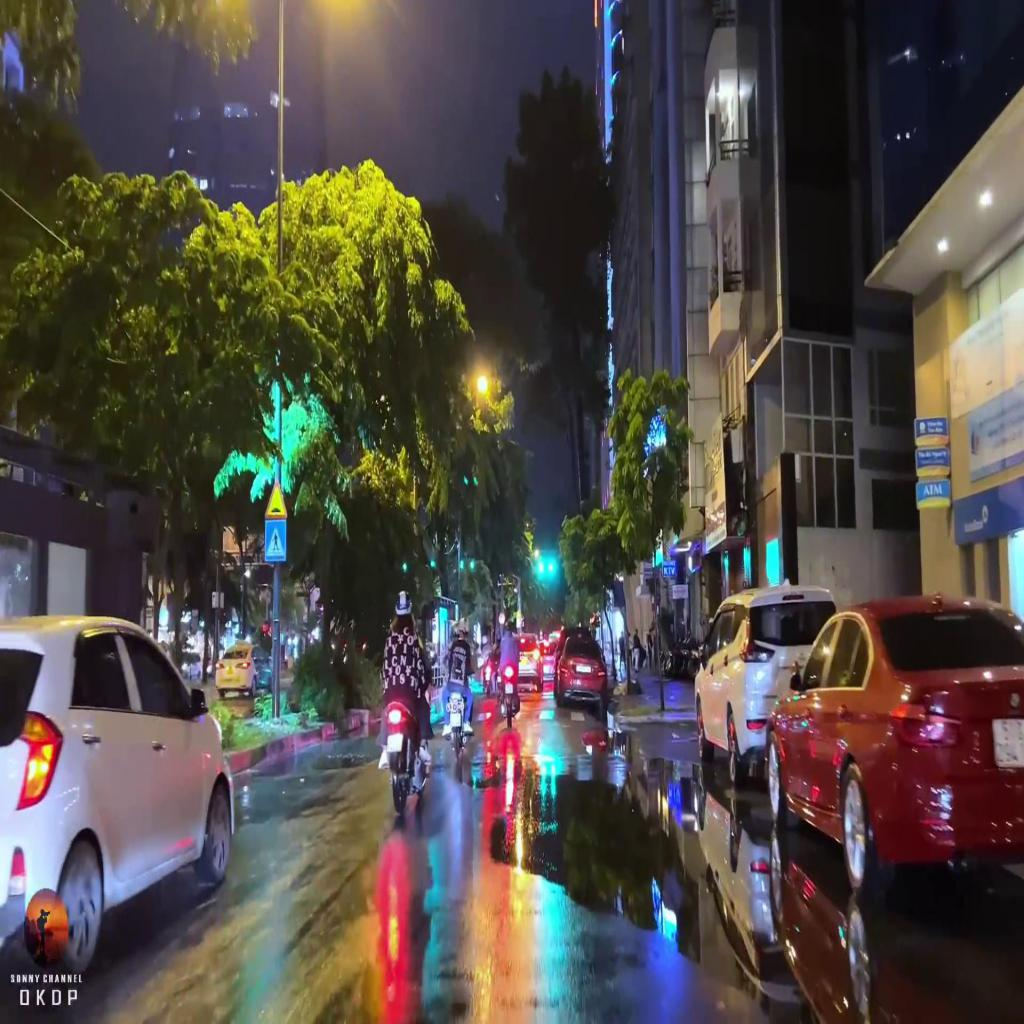duong_co_song_map_mo_nhan_tao: (264, 476, 288, 519)
duong_nguoi_di_bo_sang_ngang: (264, 520, 286, 562)
